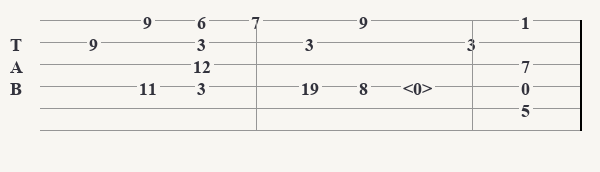0: (521, 78, 534, 94)
1: (521, 12, 534, 28)
11: (139, 78, 161, 94)
12: (193, 56, 215, 72)
19: (301, 78, 323, 94)
3: (197, 78, 210, 94), (197, 34, 210, 50), (305, 34, 318, 50), (467, 34, 480, 50)
5: (521, 100, 534, 116)
6: (197, 12, 210, 28)
7: (251, 12, 264, 28), (521, 56, 534, 72)
8: (359, 78, 372, 94)
9: (89, 34, 102, 50), (143, 12, 156, 28), (359, 12, 372, 28)
harmonic: (403, 78, 436, 94)
